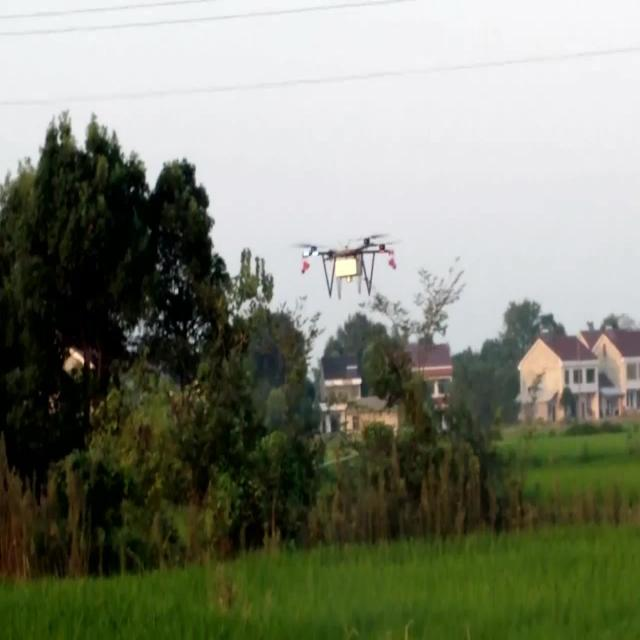drone: (293, 232, 396, 300)
